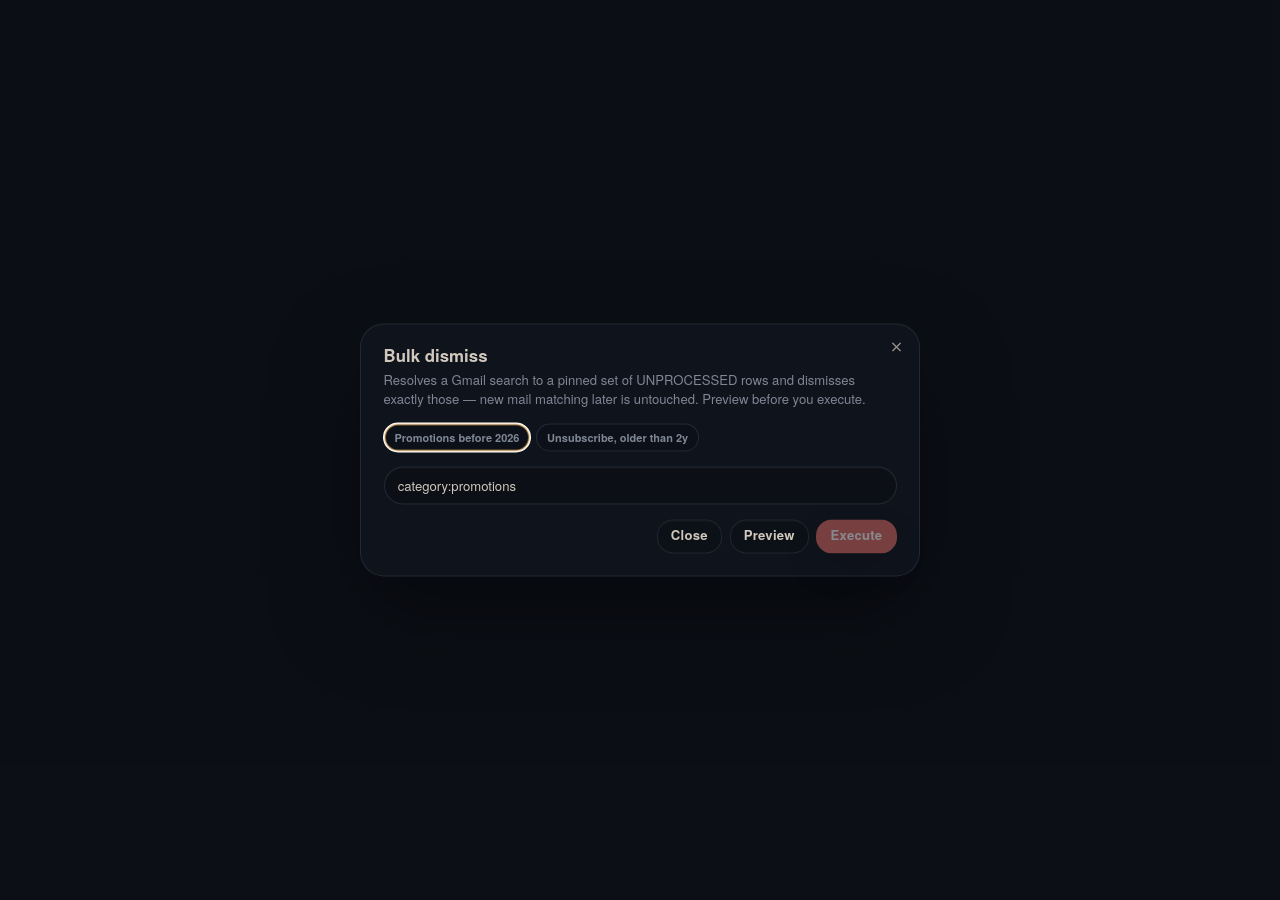
Test: BulkDismissDialog › renders a 400 detail verbatim and keeps Execute disabled
Click the button "Preview": (769, 536) [730,519,809,553]
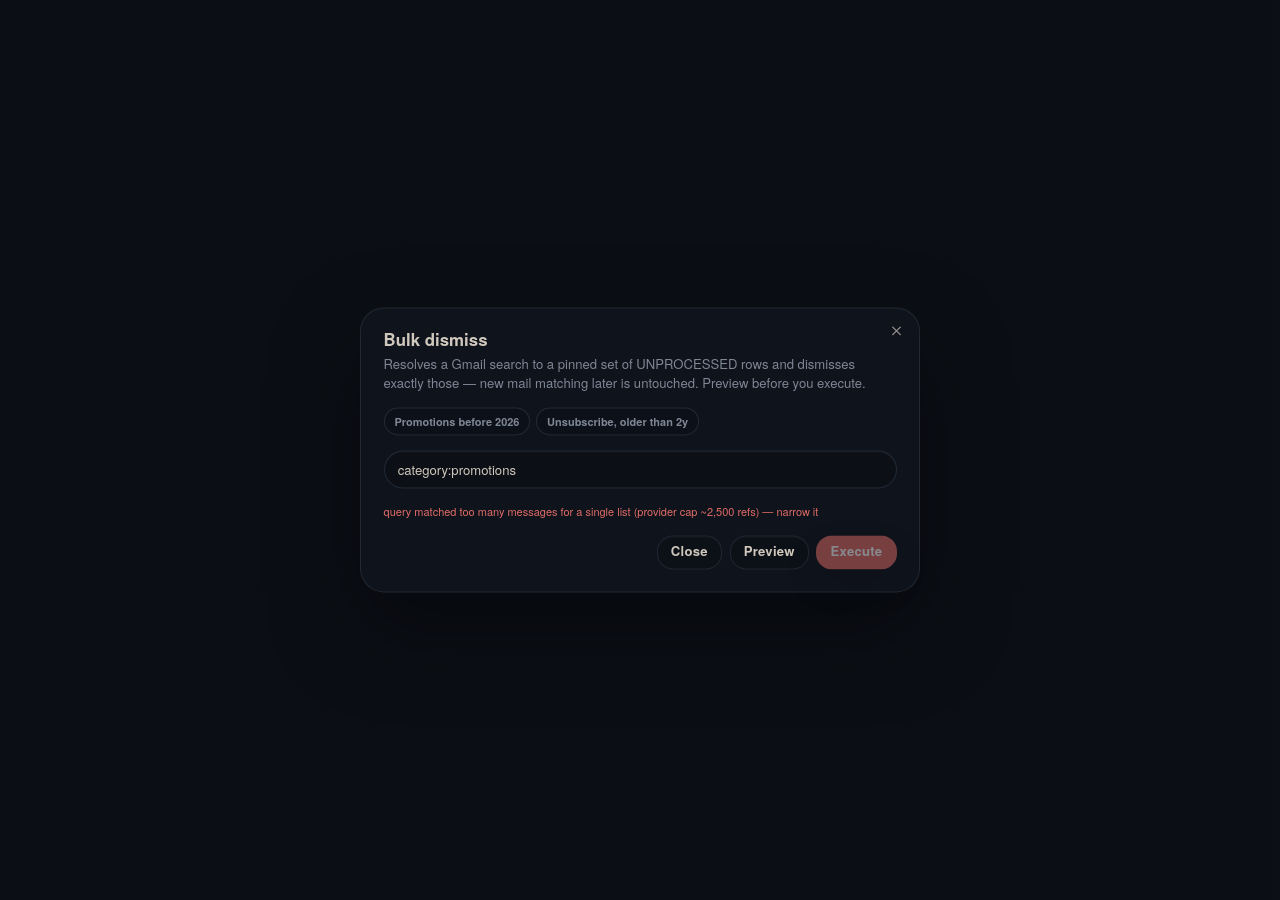
Check: the button "Execute" is disabled, box [816,535,896,569]
Check: the text "narrow it" is shown, box [384,503,818,519]
